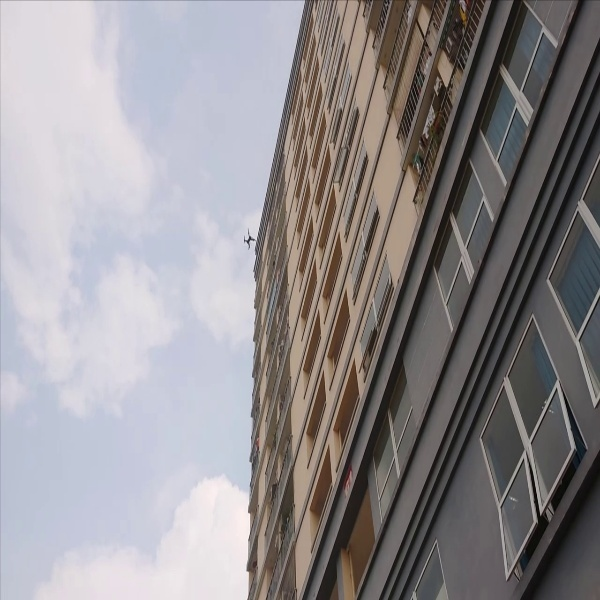drone: (238, 227, 261, 252)
